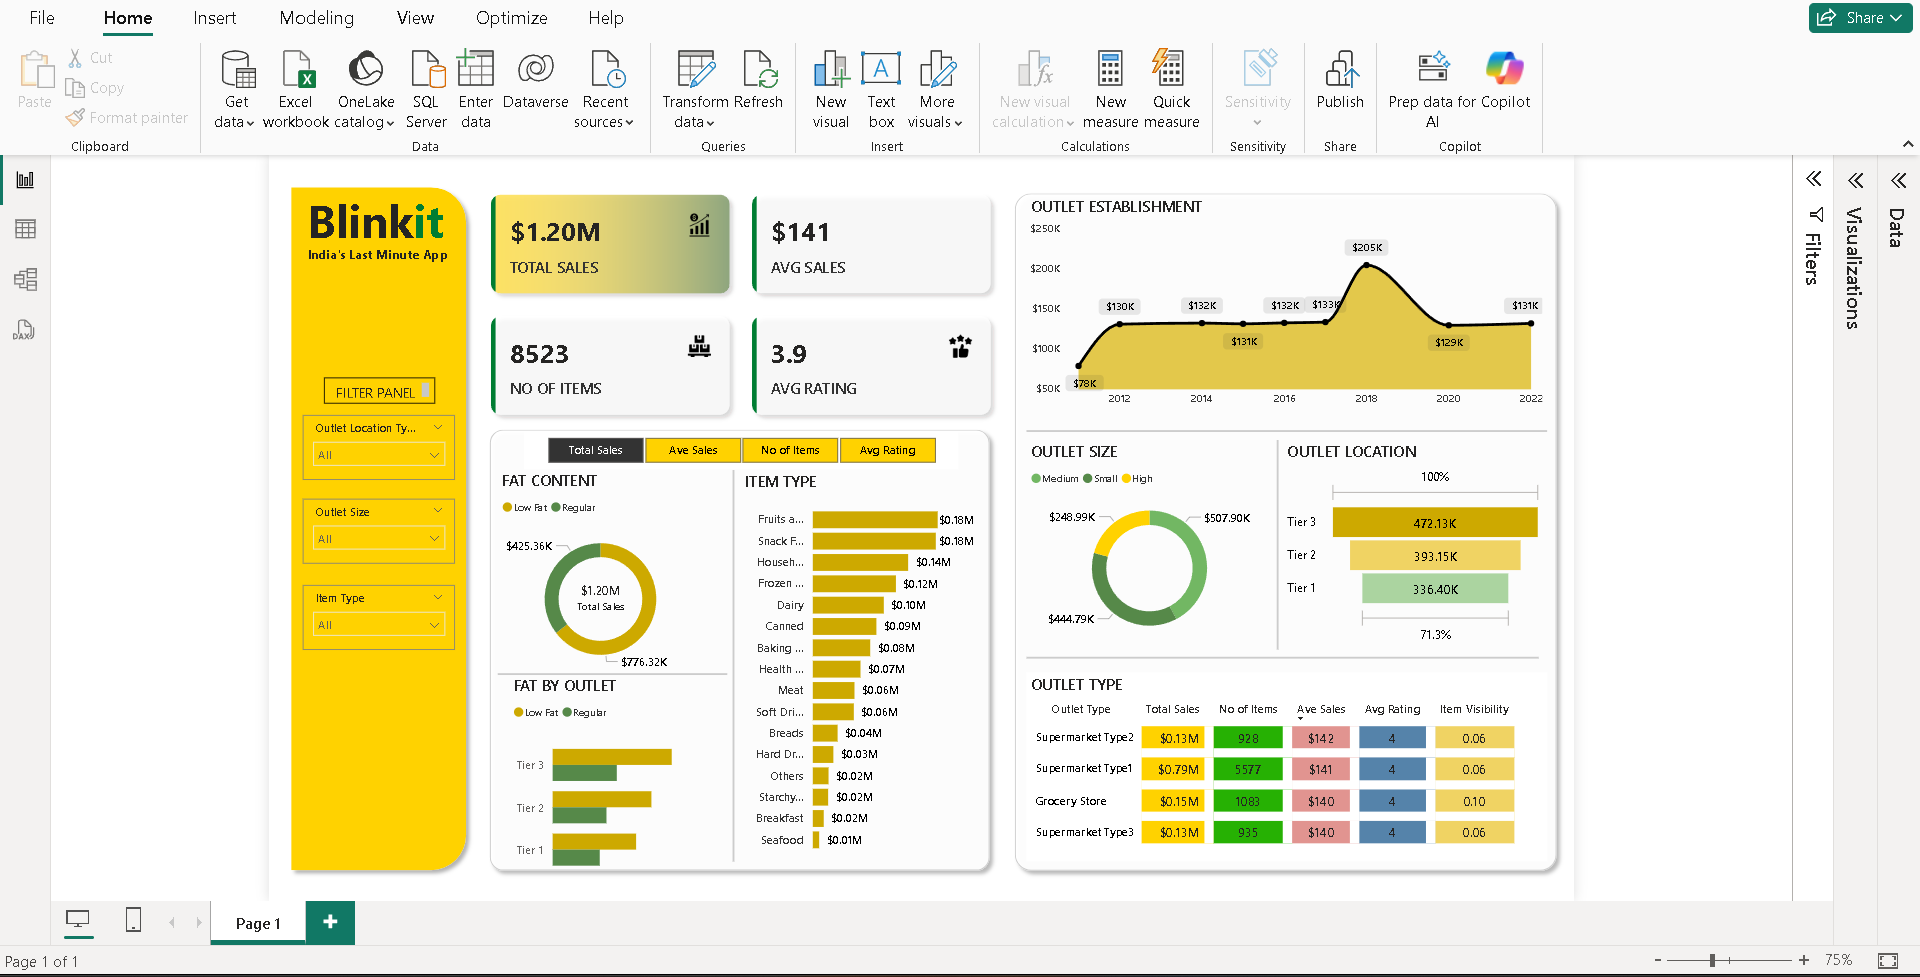

Layout of this report page (visuals, bound fields, positions):
{"tool":"powerbi","page":{"name":"Page 1","canvas":[1400,800],"ordinal":0},"visuals":[{"type":"shape","box":[15,25.5,205.6,750.4],"z":0},{"type":"textbox","box":[36,31.5,163.6,78],"z":1000},{"type":"textbox","box":[26.8,92.5,181,36.2],"z":2000},{"type":"cardVisual","fields":{"Data":["BlinkIT Grocery Data.Total Sales","BlinkIT Grocery Data.Ave Sales","BlinkIT Grocery Data.No of Items","BlinkIT Grocery Data.Avg Rating"]},"box":[220.6,25.5,570.3,270.2],"z":3000},{"type":"shape","box":[228.1,285.2,553.8,490.8],"z":4000},{"type":"donutChart","title":"FAT CONTENT","fields":{"Y":["BlinkIT Grocery Data.Total Sales"],"Category":["BlinkIT Grocery Data.Item Fat Content"]},"box":[244.6,336.2,220.6,229.6],"z":5000},{"type":"slicer","fields":{"Values":["Metrix.Metrix"]},"box":[273.2,295.7,465.3,40.5],"z":6000},{"type":"cardVisual","fields":{"Data":["BlinkIT Grocery Data.Total Sales"]},"box":[310.7,441.3,90.1,58.5],"z":7000},{"type":"clusteredBarChart","title":"FAT BY OUTLET","fields":{"Y":["BlinkIT Grocery Data.Total Sales"],"Category":["BlinkIT Grocery Data.Outlet Location Type"],"Series":["BlinkIT Grocery Data.Item Fat Content"]},"box":[257.4,556.3,218.5,230.6],"z":8000},{"type":"shape","box":[244.6,546.3,246.1,19.5],"z":9000},{"type":"shape","box":[490.8,337.7,15,420.2],"z":10000},{"type":"barChart","title":"ITEM TYPE","fields":{"Y":["BlinkIT Grocery Data.Total Sales"],"Category":["BlinkIT Grocery Data.Item Type"]},"box":[505.8,337.7,258.1,420.2],"z":11000},{"type":"shape","box":[791,31.5,598.8,744.4],"z":12000},{"type":"lineChart","title":"OUTLET ESTABLISHMENT ","fields":{"Y":["BlinkIT Grocery Data.Total Sales"],"Category":["BlinkIT Grocery Data.Outlet Establishment Year"]},"box":[812,43.5,558.3,235.6],"z":13000},{"type":"shape","box":[812,285.2,558.3,21],"z":14000},{"type":"donutChart","title":"OUTLET SIZE ","fields":{"Y":["BlinkIT Grocery Data.Total Sales"],"Category":["BlinkIT Grocery Data.Outlet Size"]},"box":[812,306.2,264.2,225.1],"z":15000},{"type":"funnel","title":"OUTLET LOCATION","fields":{"Y":["Sum(BlinkIT Grocery Data.Sales)"],"Category":["BlinkIT Grocery Data.Outlet Location Type"]},"box":[1086.6,306.2,283.7,225.1],"z":16000},{"type":"shape","box":[1076.1,306.2,10.5,225.1],"z":17000},{"type":"shape","box":[812,531.3,549.3,16.5],"z":18000},{"type":"pivotTable","title":"OUTLET TYPE","fields":{"Rows":["BlinkIT Grocery Data.Outlet Type"],"Values":["BlinkIT Grocery Data.Total Sales","BlinkIT Grocery Data.No of Items","BlinkIT Grocery Data.Ave Sales","BlinkIT Grocery Data.Avg Rating","Avg(BlinkIT Grocery Data.Item Visibility)"]},"box":[812,555.3,558.3,202.6],"z":19000},{"type":"slicer","fields":{"Values":["BlinkIT Grocery Data.Outlet Location Type"]},"box":[36.2,278.8,163.5,69.7],"z":20000},{"type":"slicer","fields":{"Values":["BlinkIT Grocery Data.Outlet Size"]},"box":[36.2,368.6,163.5,69.7],"z":21000},{"type":"slicer","fields":{"Values":["BlinkIT Grocery Data.Item Type"]},"box":[36.2,461.1,163.5,69.7],"z":22000},{"type":"textbox","box":[59,238.6,119.3,28.2],"z":23000}]}

Visuals, with their boxes on the page's 1400x800 design canvas (x1, y1, x2, y2). These are canvas units, not pixel positions in the 1920x977 screenshot, which may show the page scaled, cropped or inside an application window:
shape: Rect(15, 26, 221, 776)
textbox: Rect(36, 32, 200, 110)
textbox: Rect(27, 92, 208, 129)
cardVisual - BlinkIT Grocery Data.Total Sales x BlinkIT Grocery Data.Ave Sales: Rect(221, 26, 791, 296)
shape: Rect(228, 285, 782, 776)
"FAT CONTENT" donutChart: Rect(245, 336, 465, 566)
slicer - Metrix.Metrix: Rect(273, 296, 738, 336)
cardVisual - BlinkIT Grocery Data.Total Sales: Rect(311, 441, 401, 500)
"FAT BY OUTLET" clusteredBarChart: Rect(257, 556, 476, 787)
shape: Rect(245, 546, 491, 566)
shape: Rect(491, 338, 506, 758)
"ITEM TYPE" barChart: Rect(506, 338, 764, 758)
shape: Rect(791, 32, 1390, 776)
"OUTLET ESTABLISHMENT " lineChart: Rect(812, 44, 1370, 279)
shape: Rect(812, 285, 1370, 306)
"OUTLET SIZE " donutChart: Rect(812, 306, 1076, 531)
"OUTLET LOCATION" funnel: Rect(1087, 306, 1370, 531)
shape: Rect(1076, 306, 1087, 531)
shape: Rect(812, 531, 1361, 548)
"OUTLET TYPE" pivotTable: Rect(812, 555, 1370, 758)
slicer - BlinkIT Grocery Data.Outlet Location Type: Rect(36, 279, 200, 348)
slicer - BlinkIT Grocery Data.Outlet Size: Rect(36, 369, 200, 438)
slicer - BlinkIT Grocery Data.Item Type: Rect(36, 461, 200, 531)
textbox: Rect(59, 239, 178, 267)
